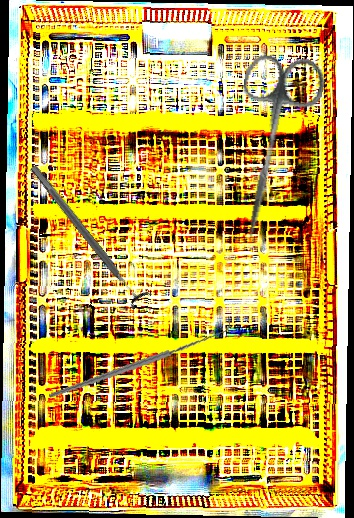Fixation Ring: (22, 158, 154, 311)
Hook Surgical: (48, 290, 231, 428)
Iris Scissors: (214, 48, 329, 247)
